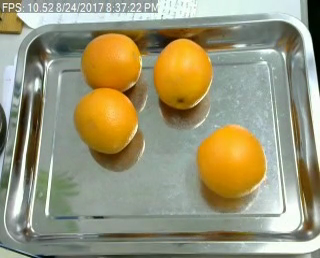Orange: (197, 124, 266, 198), (154, 37, 212, 110), (75, 87, 138, 153), (81, 33, 142, 91)
